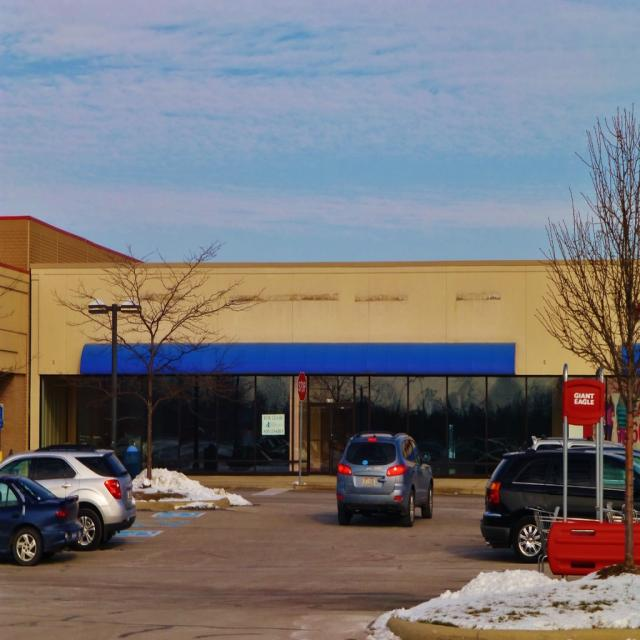car: (335, 430, 435, 529)
